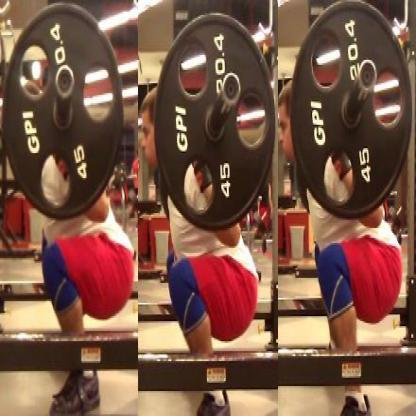barbell: (288, 0, 415, 222), (152, 11, 278, 233), (1, 2, 125, 222)
